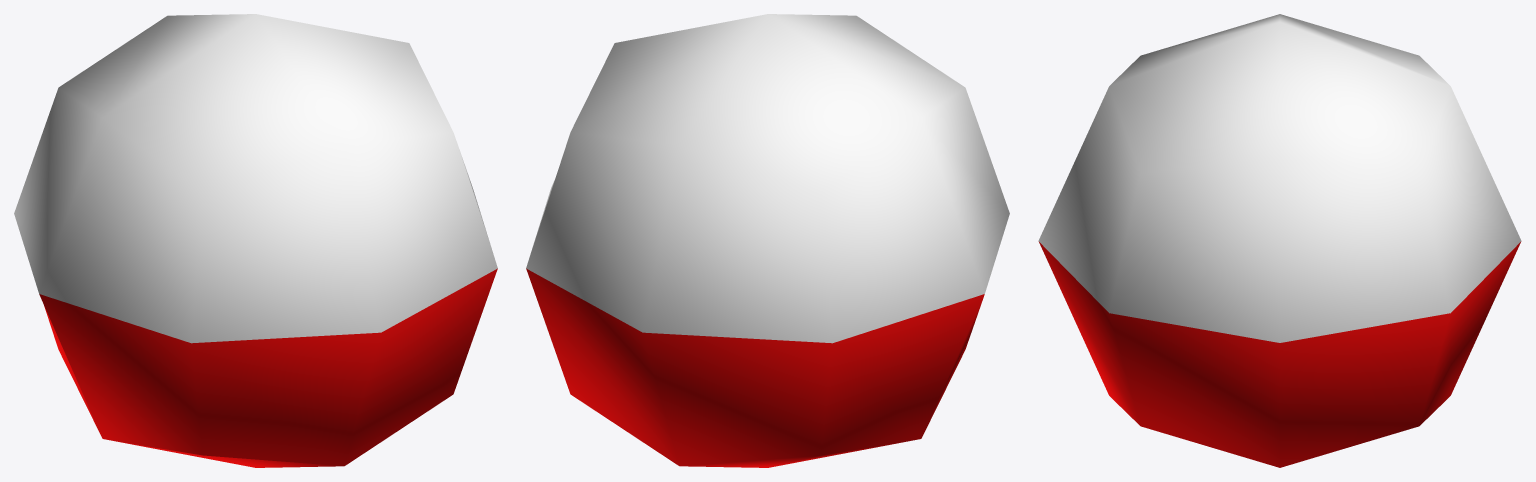
The model's file is FishingRodBobber.fbx.
3 views of the same model, side by side, from view 1: azimuth 30°, elevation 25°; view 2: azimuth 150°, elevation 25°; view 3: azimuth 270°, elevation 25° (orthographic). The views are drawn at different scales.
Parts seen in each view (by area): view 1: Cube; view 2: Cube; view 3: Cube.
Part boxes in pixels (x1,y1,x2,y2): Cube: (14,14,497,467); Cube: (526,14,1009,467); Cube: (1038,14,1521,467).
Bounding box in the file's own units: 3.46 × 3.46 × 3.46.
